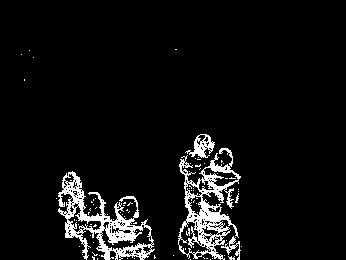person: (181, 191, 239, 260), (106, 193, 156, 259), (201, 147, 239, 227), (179, 133, 214, 219), (73, 191, 113, 260), (56, 172, 90, 247)
